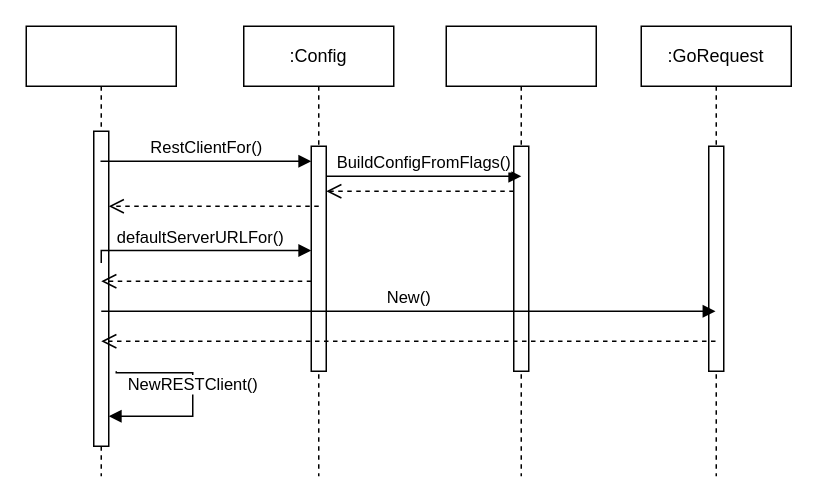
The diagram is 818 pixels wide and 503 high, and some of its shapes have lost their labels. Each missing label, with the box of its shape:
:ClientConfig: (445, 25, 596, 476)
:RESTClient: (25, 25, 176, 476)
